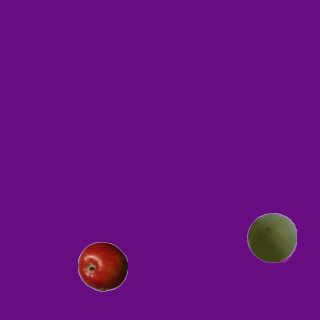Apple Braeburn: (77, 241, 127, 291)
Grape White 4: (246, 212, 296, 262)
